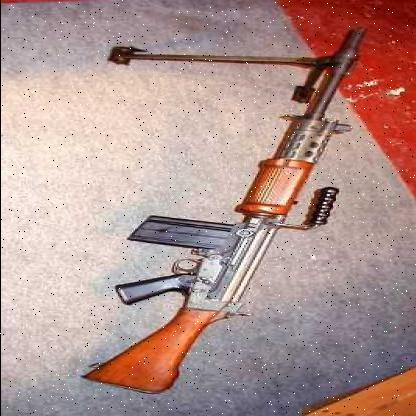rifle: (59, 26, 399, 397)
